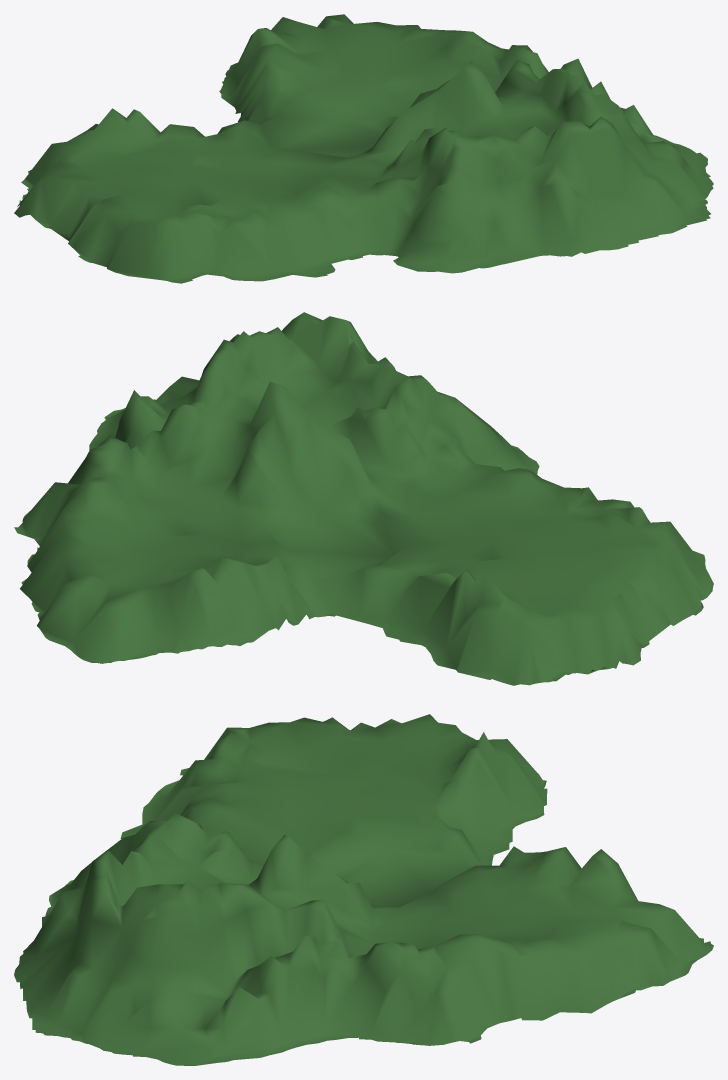
File: island_lowpoly.glb
3 views of the same model, one above another, from view 1: azimuth 30°, elevation 25°; view 2: azimuth 150°, elevation 25°; view 3: azimuth 270°, elevation 25° (orthographic). The views are drawn at different scales.
Visible parts, largest first — view 1: Landscape4; view 2: Landscape4; view 3: Landscape4.
Boxes of the visible parts, <box> form: Landscape4: <box>14,14,713,283</box>; Landscape4: <box>14,312,713,685</box>; Landscape4: <box>14,714,713,1065</box>.
Size of the model in its own units: 244 by 44.18 by 223.
